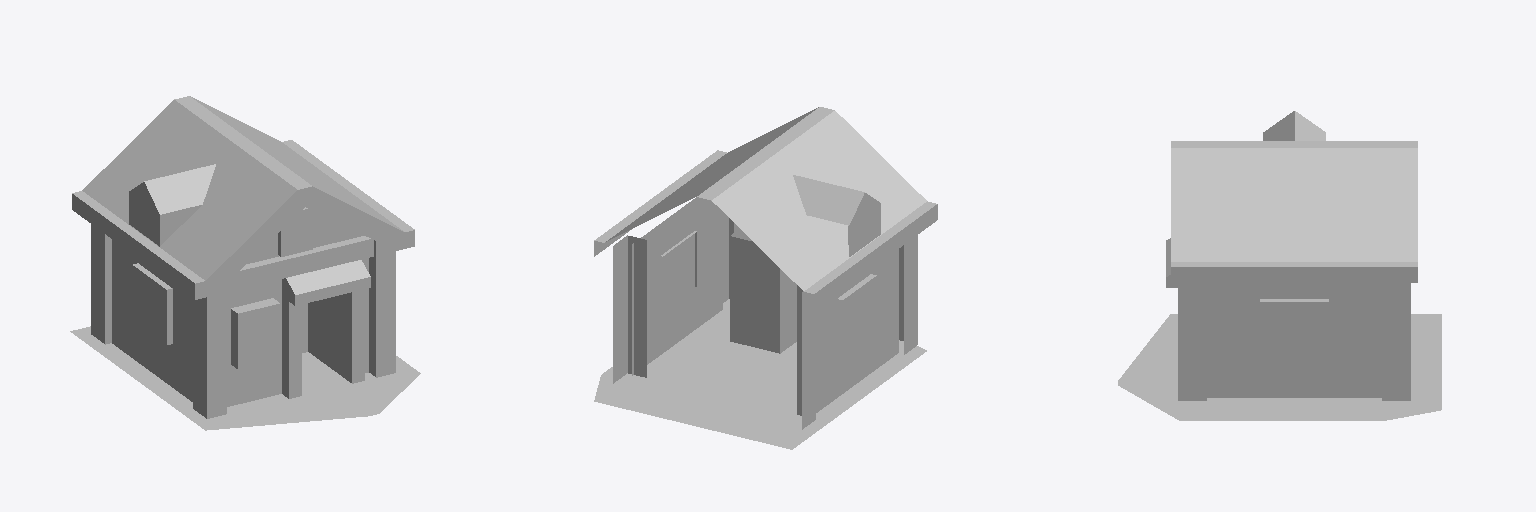
File: Mistralton City House.obj
3 renders of one model, left to right at view 1: azimuth 30°, elevation 25°; view 2: azimuth 150°, elevation 25°; view 3: azimuth 270°, elevation 25°, orthographic.
Parts seen in each view (by area): view 1: polygon3, polygon2, polygon1; view 2: polygon3, polygon2, polygon1; view 3: polygon2, polygon3, polygon1.
Part boxes in pixels (x1,y1,x2,y2): polygon3: (91, 182, 395, 418); polygon2: (72, 96, 414, 305); polygon1: (70, 326, 420, 430); polygon3: (613, 193, 917, 429); polygon2: (594, 107, 937, 309); polygon1: (594, 299, 926, 449); polygon2: (1166, 111, 1417, 287); polygon3: (1178, 283, 1410, 400); polygon1: (1118, 314, 1441, 420).
Size of the model in its own units: 73.08 by 66.15 by 89.09.